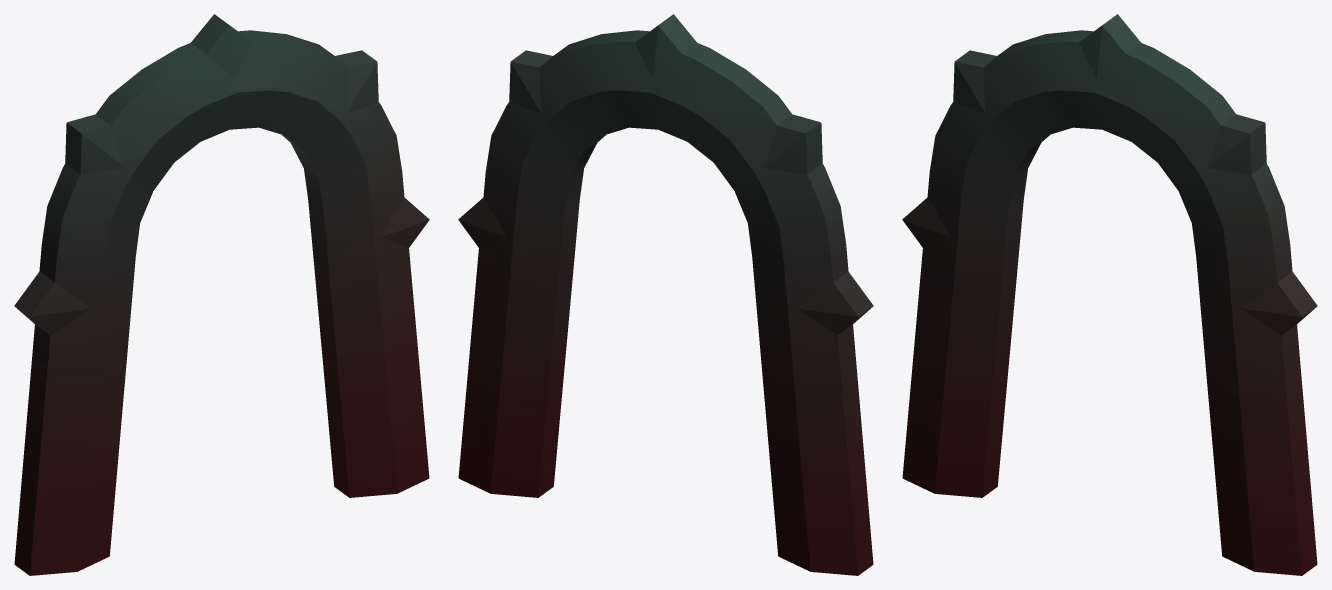
Rendered from SM_Arch_Small_01.fbx.
3 renders of one model, left to right at view 1: azimuth 30°, elevation 25°; view 2: azimuth 150°, elevation 25°; view 3: azimuth 330°, elevation 25°, orthographic.
Visible parts, largest first — view 1: SM_Arch_Small_01; view 2: SM_Arch_Small_01; view 3: SM_Arch_Small_01.
Part boxes in pixels (left/top/right/bottom): SM_Arch_Small_01: left=14, top=14, right=429, bottom=575; SM_Arch_Small_01: left=458, top=14, right=873, bottom=575; SM_Arch_Small_01: left=902, top=14, right=1317, bottom=575.
Size of the model in its own units: 376 by 450 by 50.
1 material, 1 textured.
